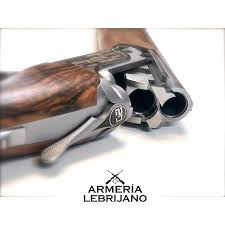weapon: (1, 28, 193, 174)
